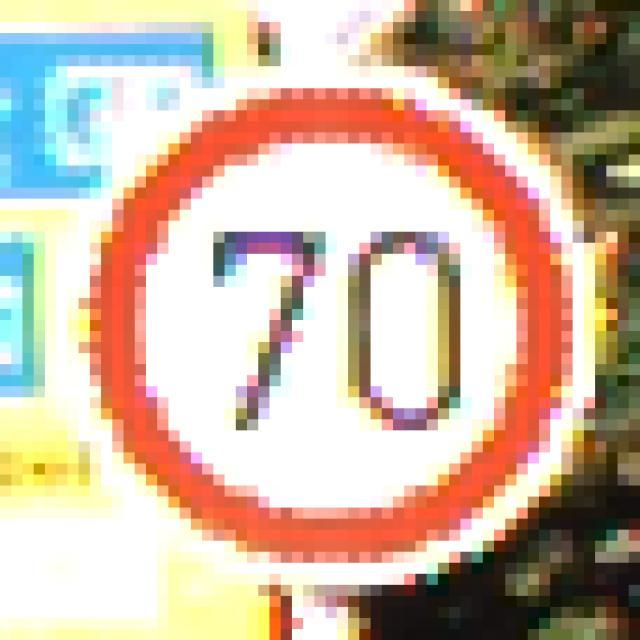Ograniczenie predkosci do 70: (89, 79, 590, 568)
